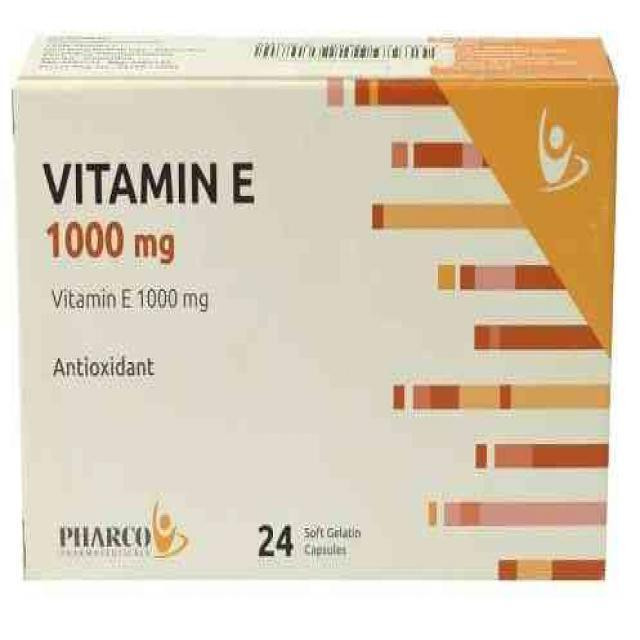drug-name: (39, 156, 262, 210)
